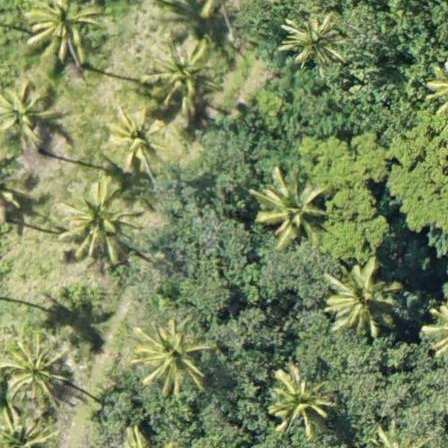palm_tree: (264, 361, 339, 437), (131, 313, 203, 390), (327, 268, 398, 344), (255, 176, 323, 248), (14, 1, 95, 59), (59, 183, 125, 253), (151, 37, 216, 106), (285, 8, 348, 75), (1, 339, 66, 403), (106, 109, 167, 170), (1, 79, 47, 138)
